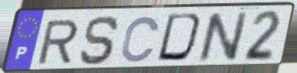2: (242, 9, 282, 65)
C: (119, 14, 162, 64)
D: (154, 12, 207, 65)
N: (196, 10, 251, 65)
R: (35, 18, 81, 67)
S: (78, 14, 122, 67)
